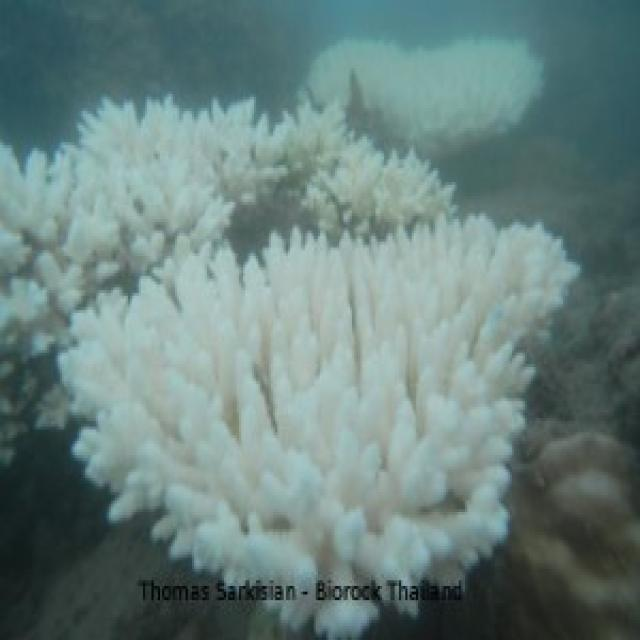Bleached: (65, 223, 578, 640), (4, 101, 461, 373), (310, 33, 545, 143)
Healthy: (519, 282, 638, 640)
